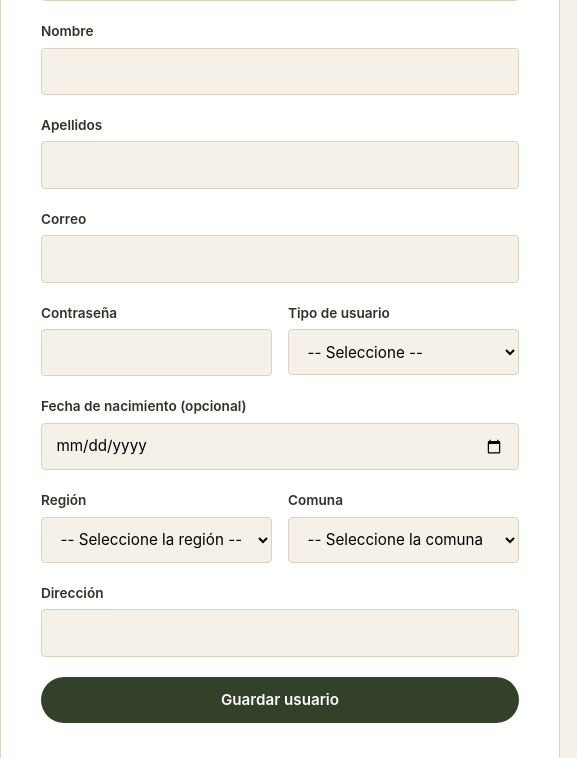
it: AdminUsuarioForm › no muestra errores al inicio y los muestra al enviar vacío (renderizado condicional)
This screenshot has width=577, height=758.
(page scrolled)
Click the button "Guardar usuario".
click(280, 700)  # box x1=41 y1=676 x2=519 y2=723
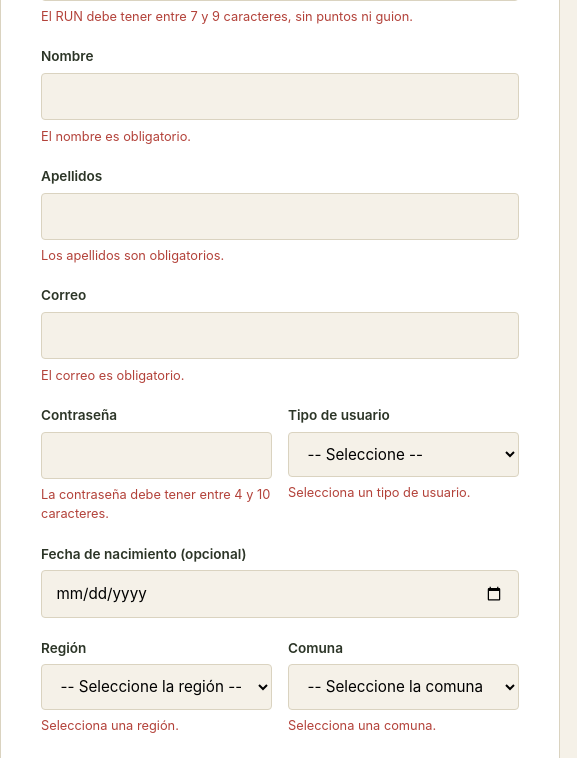
Expected: the text "El nombre es obligatorio." is shown, x1=41 y1=129 x2=191 y2=144
Expected: the text "Selecciona un tipo de usuario." is shown, x1=288 y1=485 x2=470 y2=500
